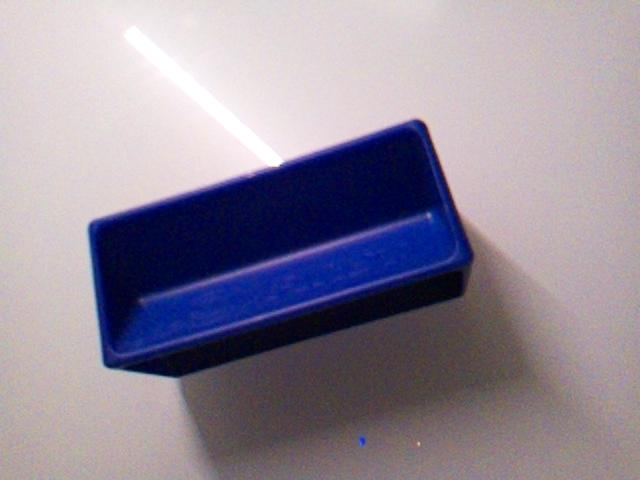blue: (86, 117, 476, 378)
